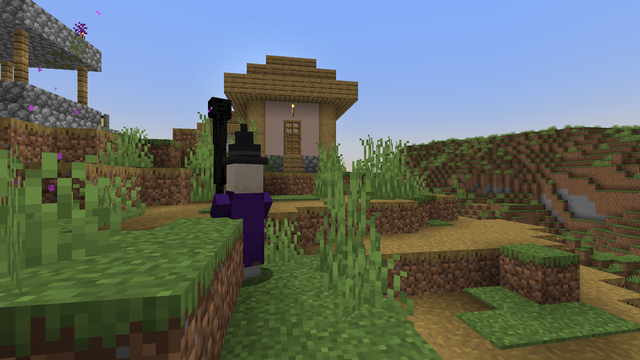endermens: (205, 93, 232, 202)
sorcieres: (222, 158, 263, 282)
